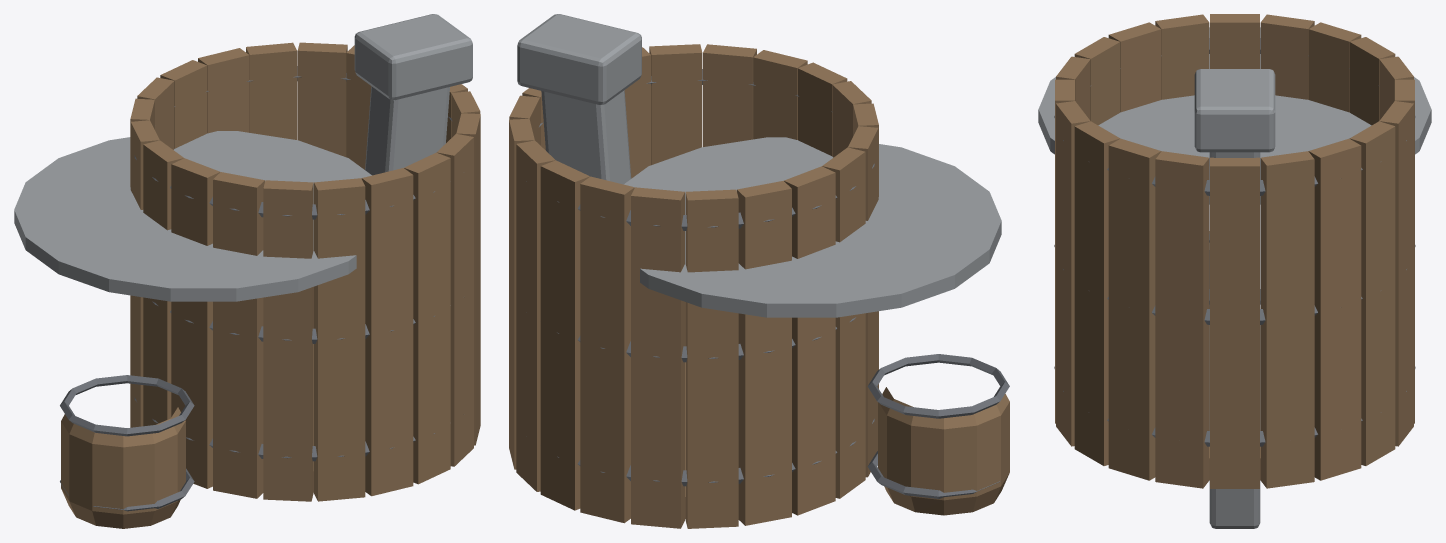
Rendered from rain_water_butt.glb.
The picture shows the model from 3 angles, left to right: view 1: azimuth 30°, elevation 25°; view 2: azimuth 150°, elevation 25°; view 3: azimuth 270°, elevation 25°; orthographic projection. The views are drawn at different scales.
Parts seen in each view (by area): view 1: 207-rain-water-butt/0, 207-rain-water-butt/2, 207-rain-water-butt/1; view 2: 207-rain-water-butt/0, 207-rain-water-butt/2, 207-rain-water-butt/1; view 3: 207-rain-water-butt/0, 207-rain-water-butt/2, 207-rain-water-butt/1.
Boxes of the visible parts, x1,y1,x2,y2 form: 207-rain-water-butt/0: (61, 42, 480, 528); 207-rain-water-butt/2: (14, 14, 472, 301); 207-rain-water-butt/1: (60, 66, 452, 511); 207-rain-water-butt/0: (509, 44, 1009, 528); 207-rain-water-butt/2: (517, 14, 1001, 317); 207-rain-water-butt/1: (526, 69, 1009, 498); 207-rain-water-butt/0: (1055, 14, 1414, 488); 207-rain-water-butt/2: (1038, 27, 1431, 528); 207-rain-water-butt/1: (1054, 38, 1415, 446).
Size of the model in its own units: 2 by 1.98 by 1.59.
